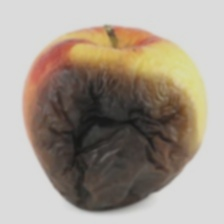apple: (27, 28, 212, 224)
